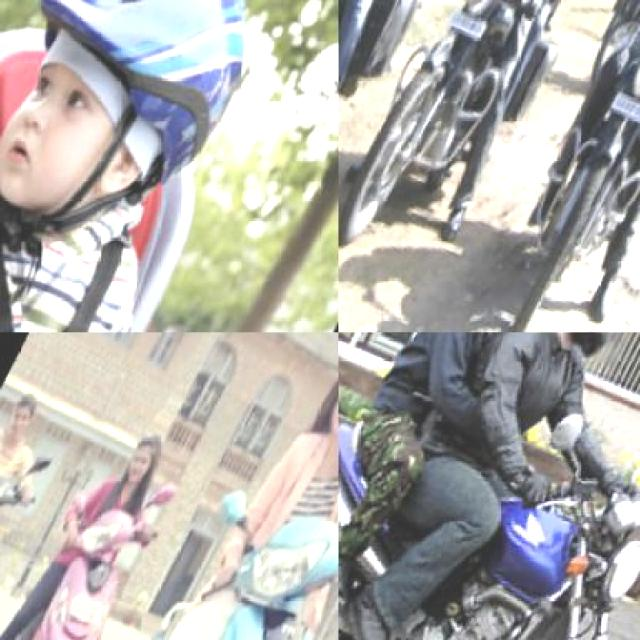With Helmet: (0, 0, 306, 283), (526, 332, 639, 376)
Without Helmet: (112, 423, 178, 500), (0, 381, 52, 446), (312, 340, 337, 452)
